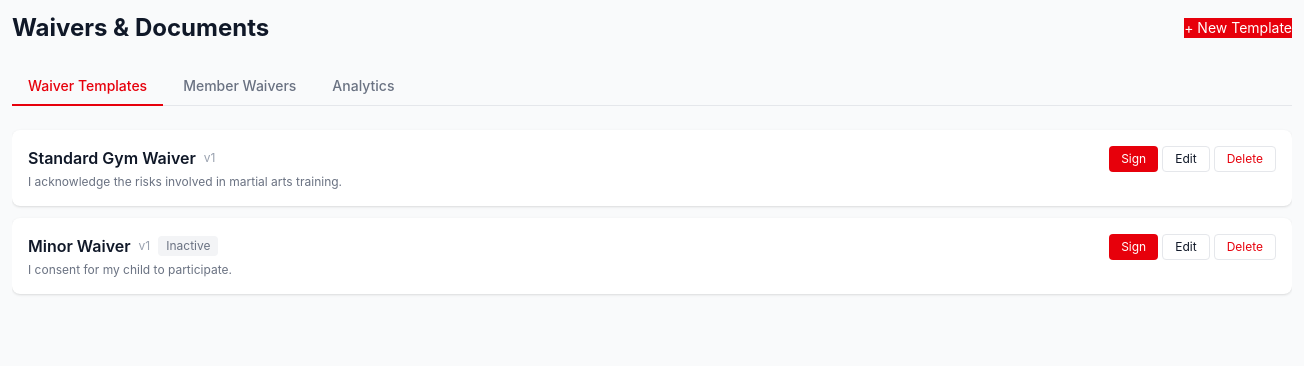
Scenario: Waivers Page › shows analytics tab with data
Step 1. Click the tab "Analytics" → (363, 87), box [316, 68, 410, 106]
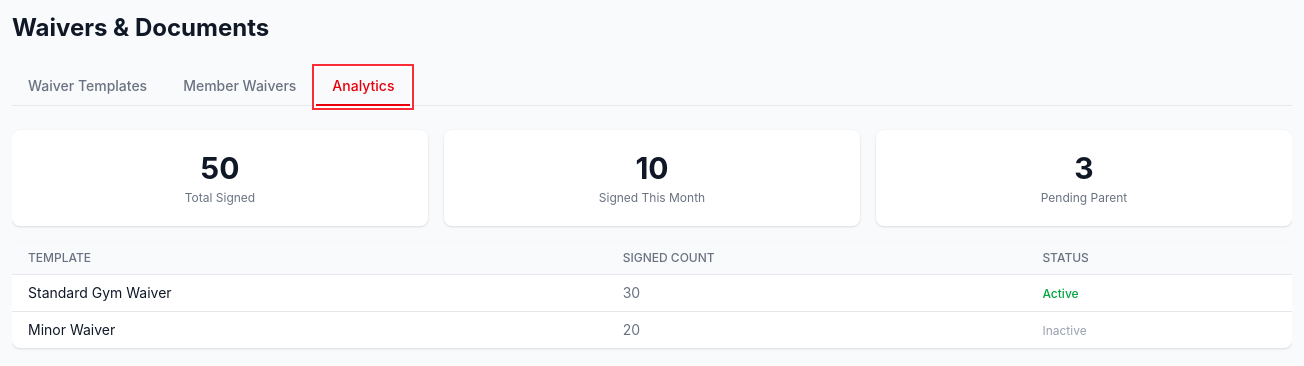
Expected: the text "Total Signed" is shown, [185, 190, 255, 205]
Expected: the text "50" is shown, [200, 150, 239, 186]
Expected: the text "Signed This Month" is shown, [599, 190, 705, 205]
